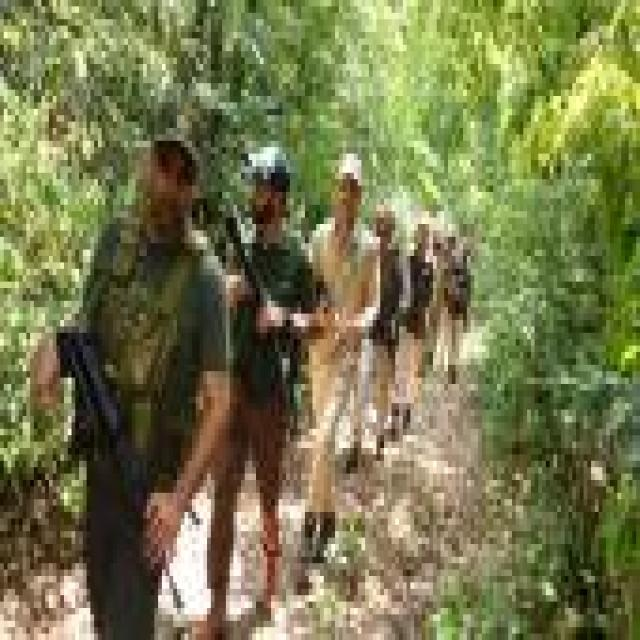Forest: (0, 1, 640, 640)
Militant: (70, 105, 204, 640), (222, 129, 306, 640), (307, 149, 378, 567), (398, 192, 484, 397), (368, 173, 408, 474)
